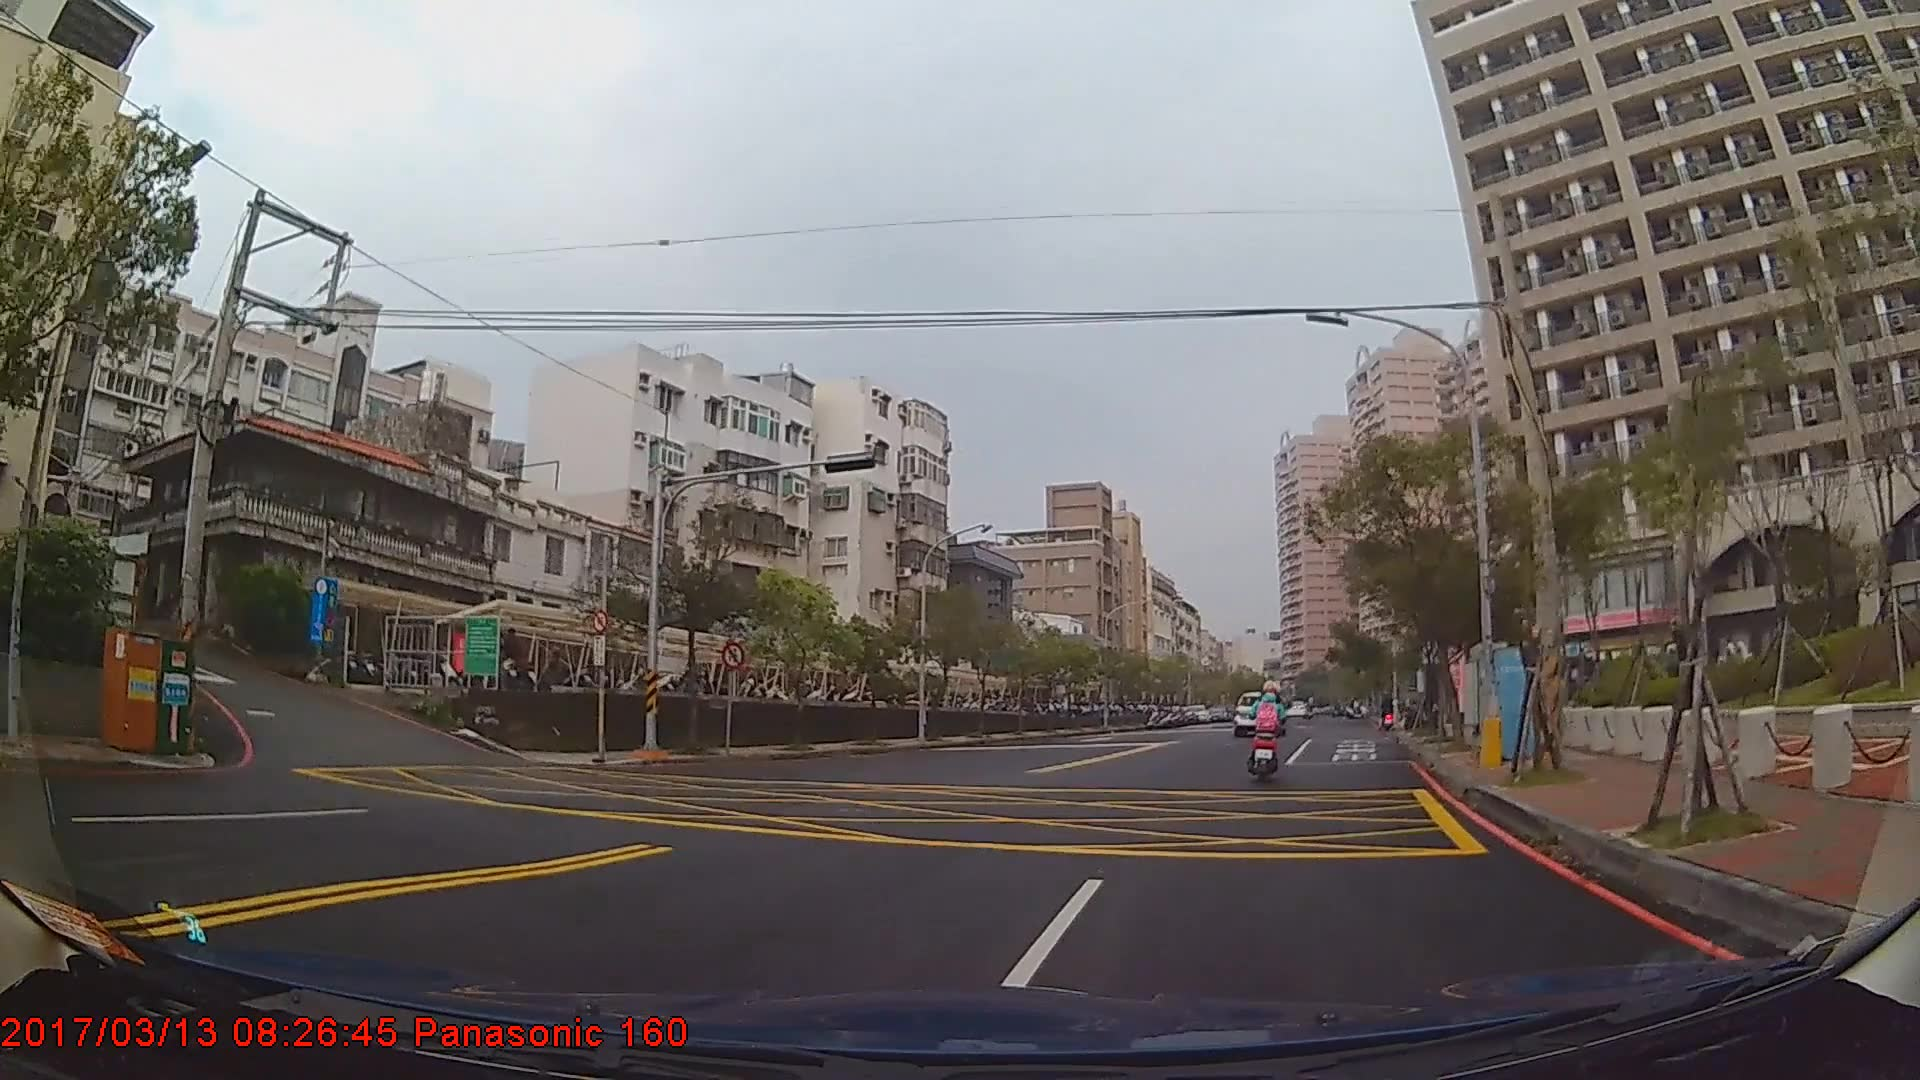rider: (1246, 679, 1292, 780)
vehicle: (1228, 689, 1282, 736)
